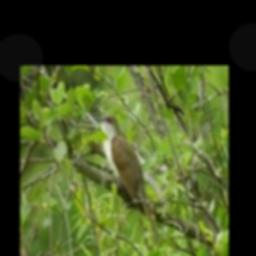Cuckoo: (98, 114, 157, 242)
